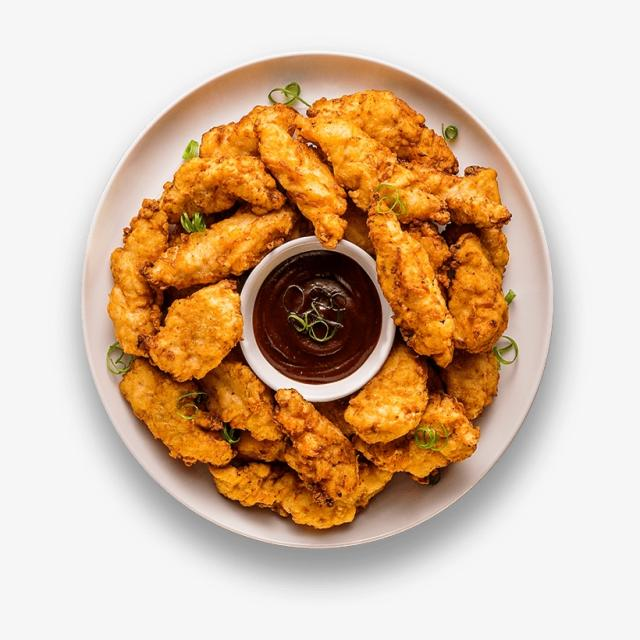Frango: (108, 89, 509, 525)
